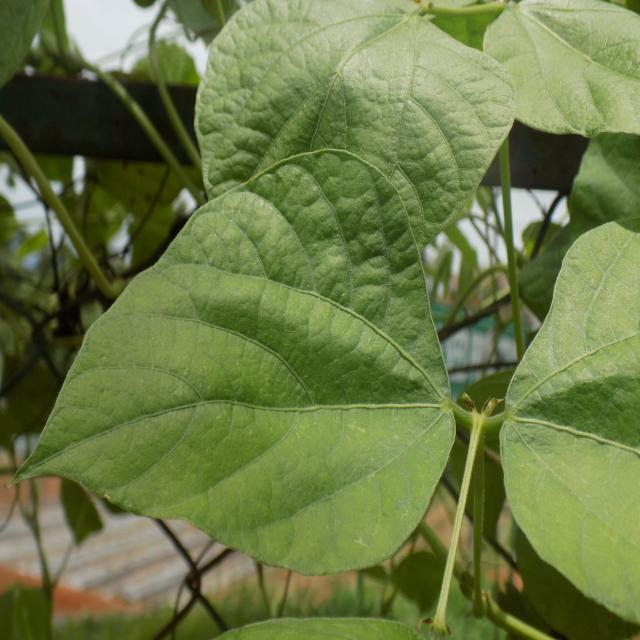Dolicos bean_healthy: (0, 148, 453, 576)
